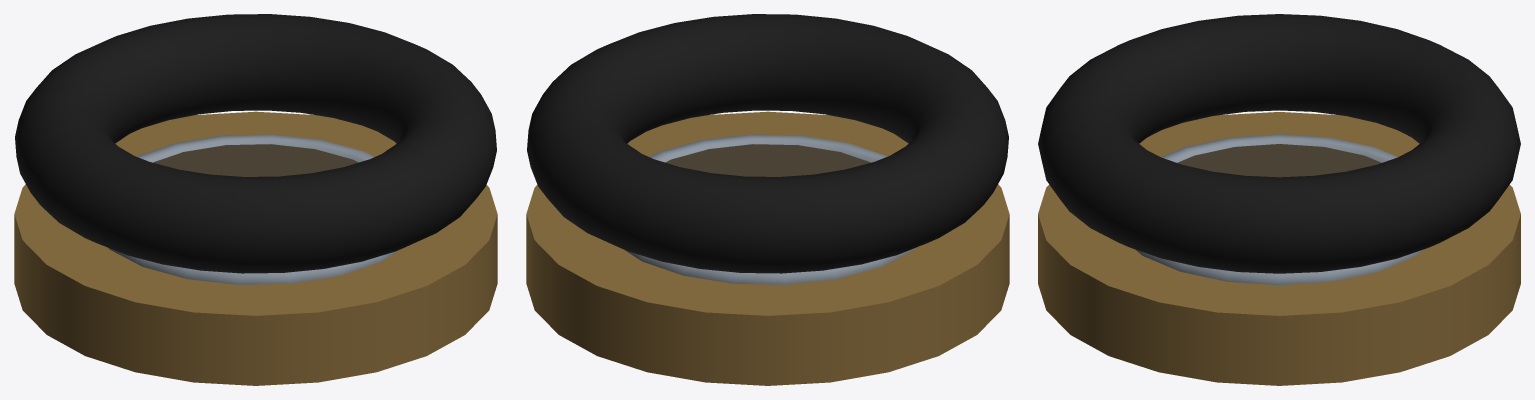
File: seal.glb
The picture shows the model from 3 angles, left to right: view 1: azimuth 30°, elevation 25°; view 2: azimuth 150°, elevation 25°; view 3: azimuth 270°, elevation 25°; orthographic projection.
Bounding box in the file's own units: 0.5 × 0.22 × 0.5.
